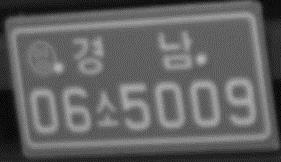0: (154, 78, 187, 131), (188, 77, 221, 128), (28, 87, 61, 135)
5: (121, 82, 153, 132)
6: (62, 86, 92, 134)
9: (224, 74, 258, 127)
경남_D: (70, 28, 194, 77)
소: (94, 89, 122, 131)
영: (28, 39, 60, 76)
